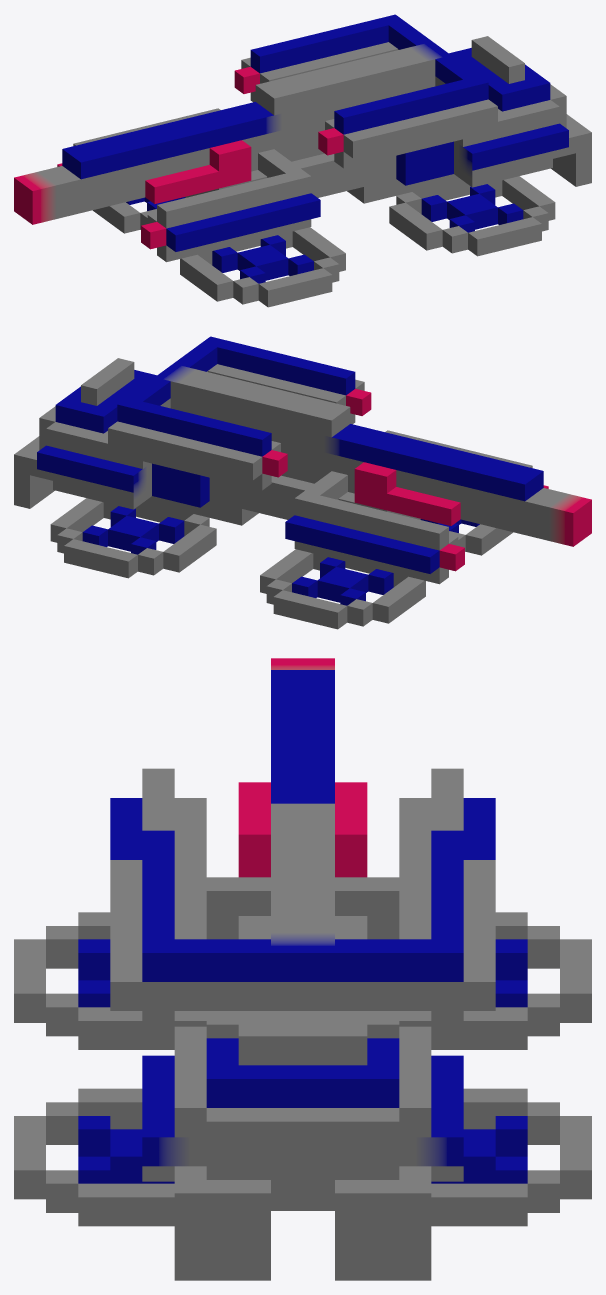
File: Player_19.fbx
3 views of the same model, one above another, from view 1: azimuth 30°, elevation 25°; view 2: azimuth 150°, elevation 25°; view 3: azimuth 270°, elevation 25° (orthographic). The views are drawn at different scales.
Parts seen in each view (by area): view 1: Player_19; view 2: Player_19; view 3: Player_19.
Boxes of the visible parts, box(x1,y1,x2,y2) form: Player_19: box(14, 14, 591, 307); Player_19: box(14, 336, 591, 629); Player_19: box(14, 658, 591, 1280).
Bounding box in the file's own units: 33 × 8 × 18.
1 material, 1 textured.
